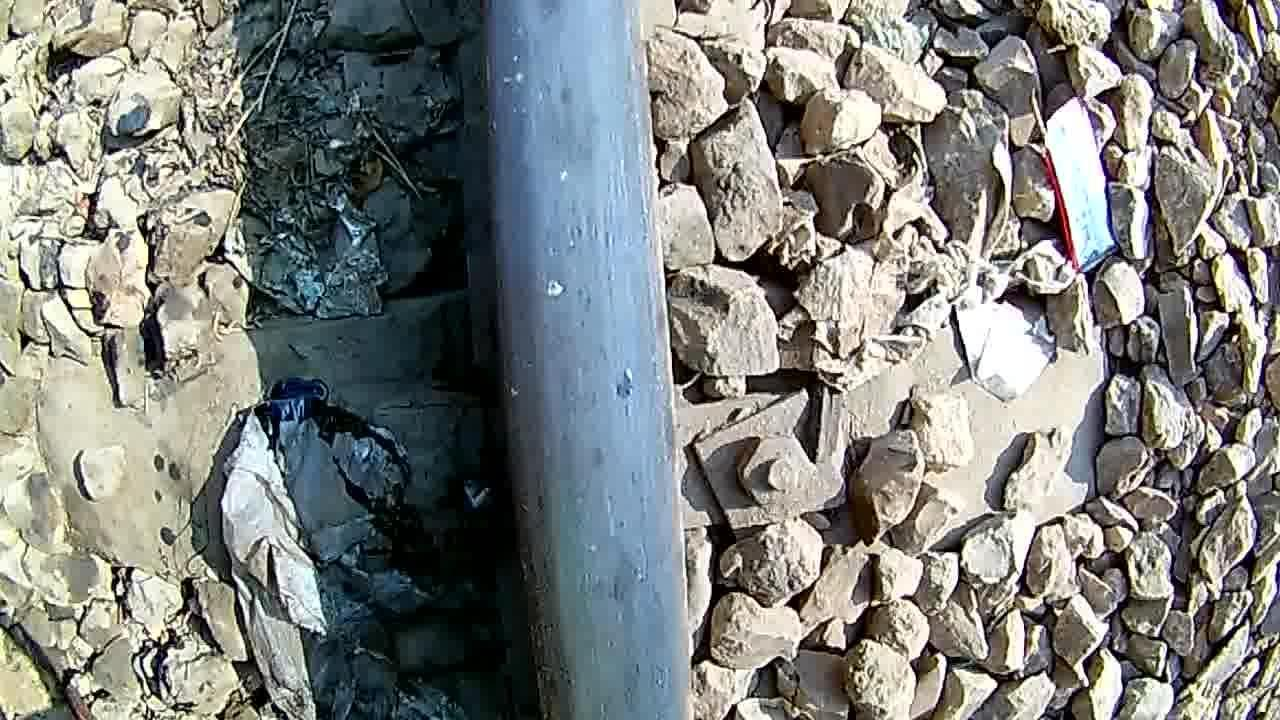crack: (506, 3, 656, 720)
